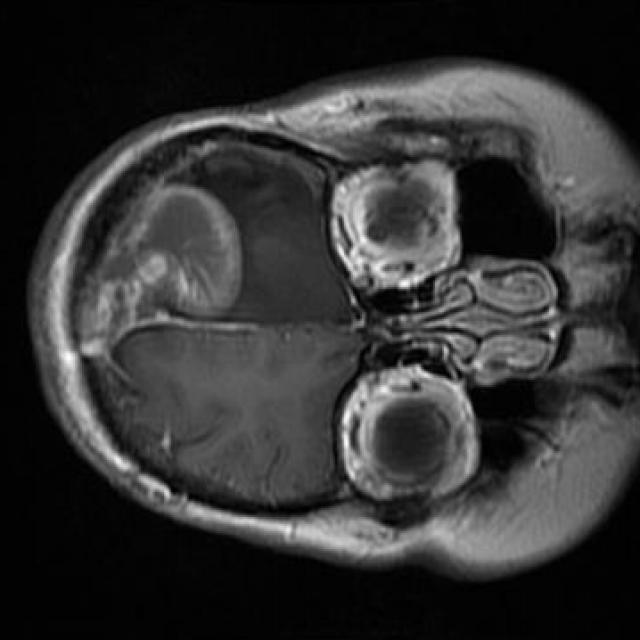glioma: (84, 185, 242, 342)
